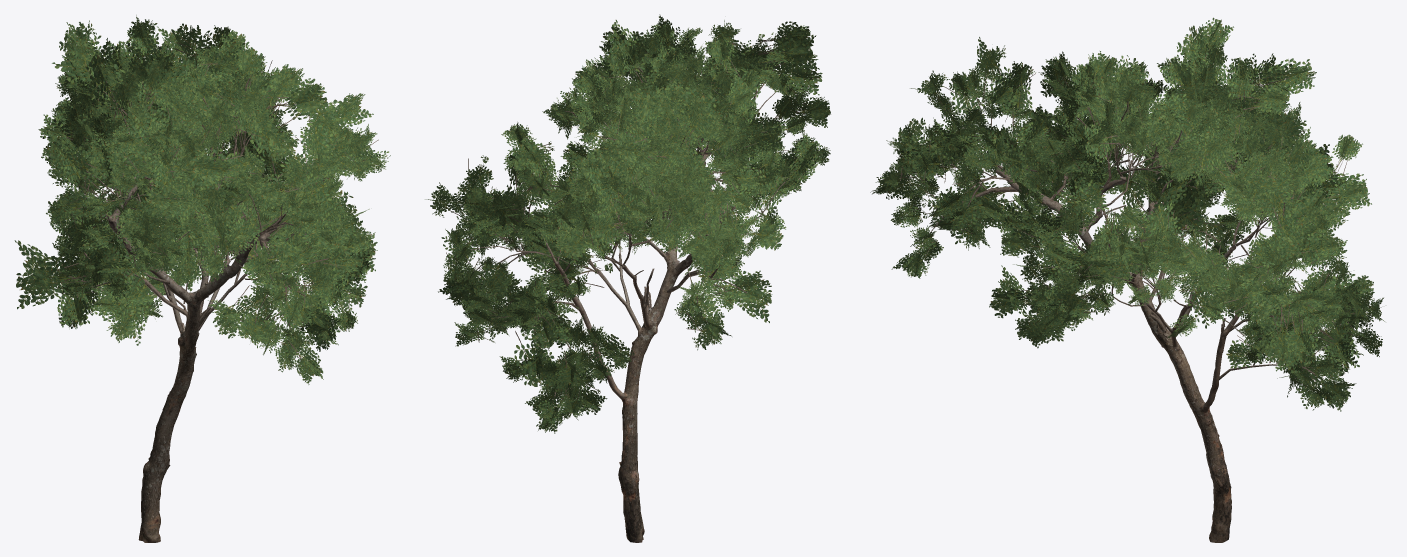
File: tree_b.glb
The picture shows the model from 3 angles, left to right: view 1: azimuth 30°, elevation 25°; view 2: azimuth 150°, elevation 25°; view 3: azimuth 270°, elevation 25°; orthographic projection. The views are drawn at different scales.
Visible parts, largest first — view 1: tree_b; view 2: tree_b; view 3: tree_b.
Part boxes in pixels (<box>): tree_b: <box>14,15,390,542</box>; tree_b: <box>425,14,830,542</box>; tree_b: <box>870,17,1384,542</box>.
Size of the model in its own units: 5.6 by 8.5 by 8.25.
Materials: 2 (2 with a texture image).
